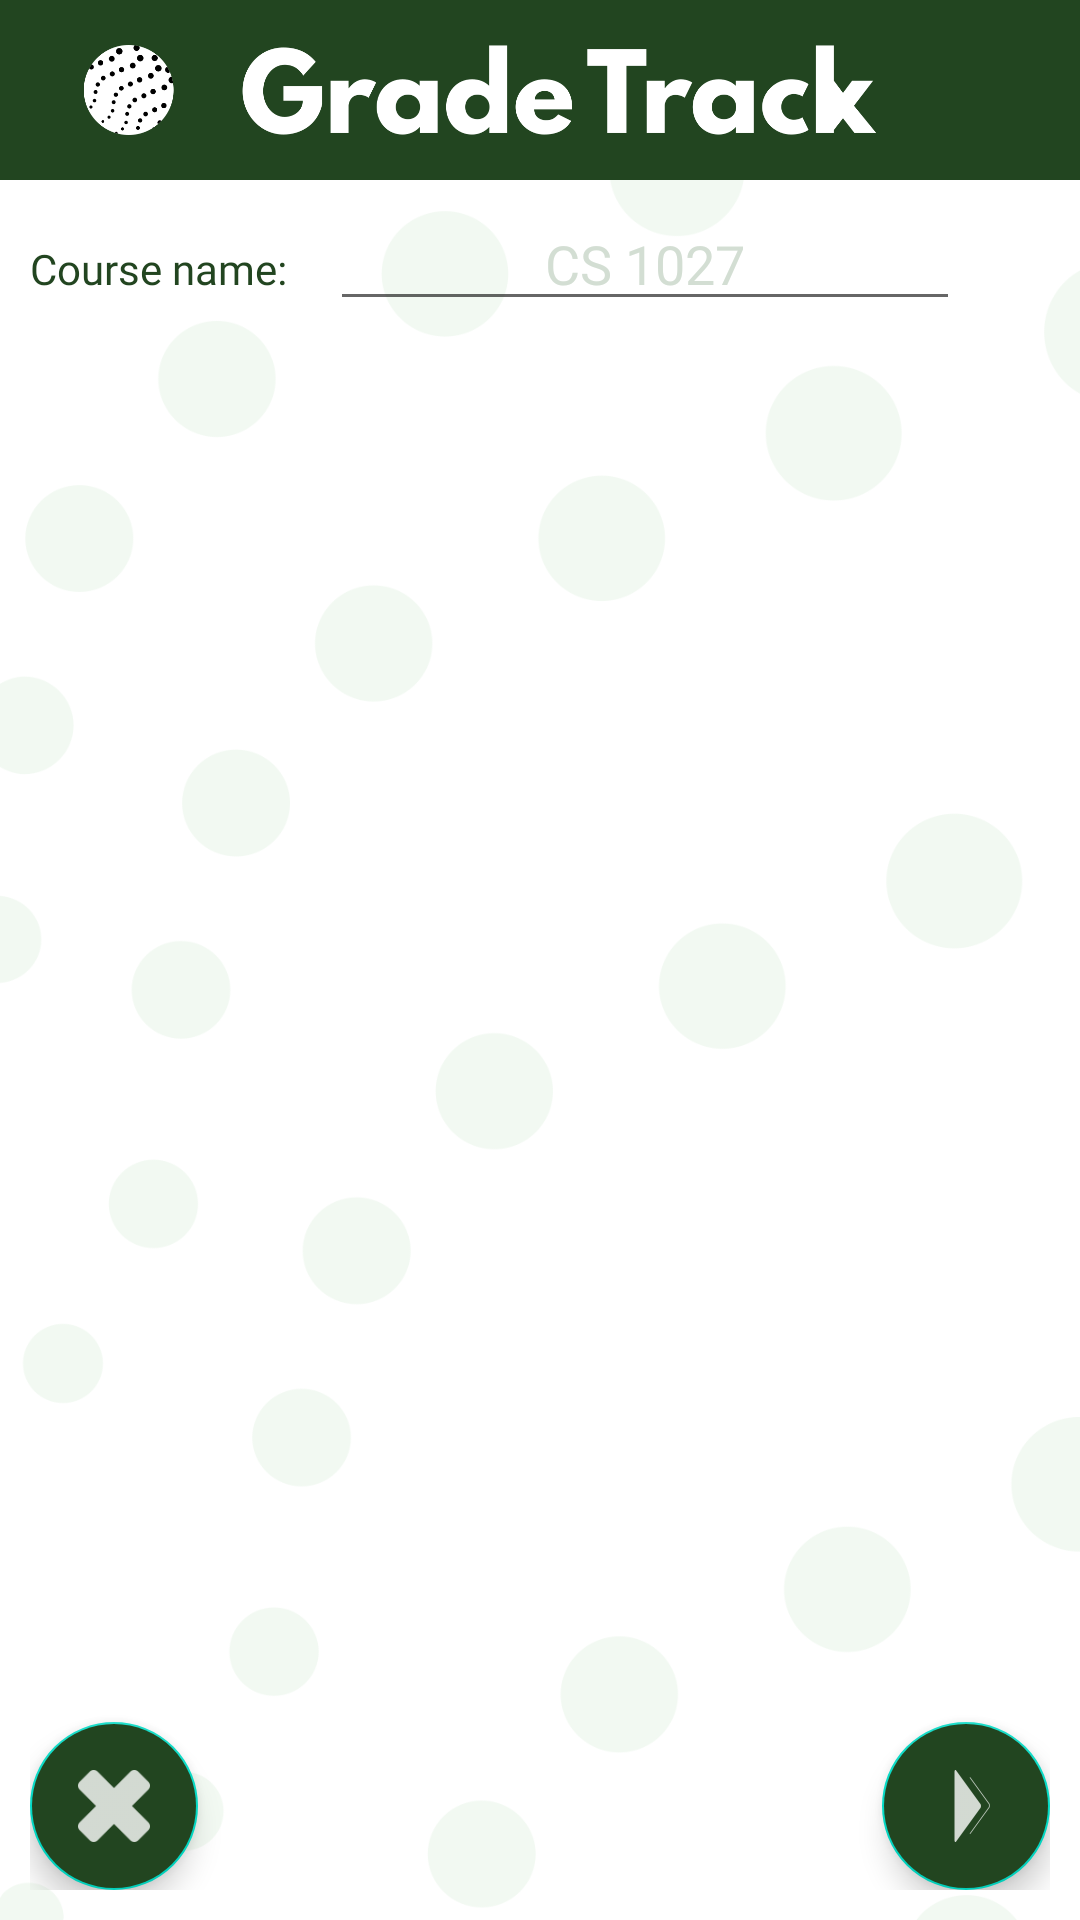

Locate icon controls on the screen. Image size 1080px×1920px, boxes as (x1, y1, x2, y2).
cancel: (30, 1722, 198, 1890)
send: (882, 1722, 1050, 1890)
